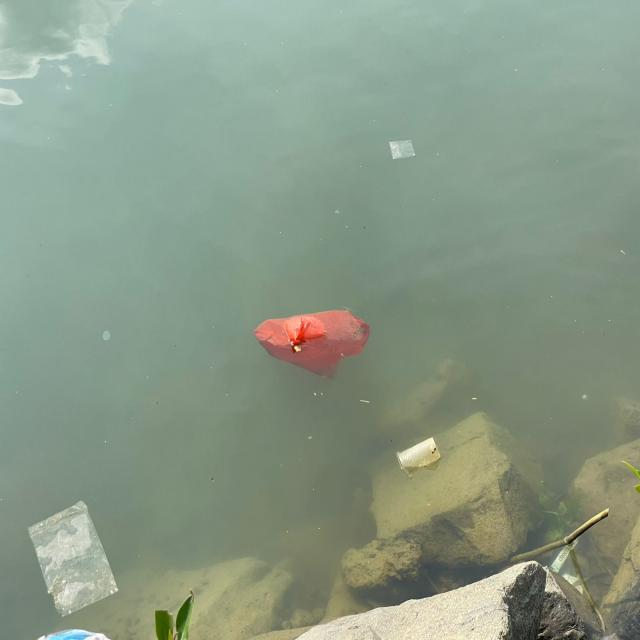Bungkus Minuman: (394, 431, 445, 482)
Kantong Plastik: (25, 495, 123, 617), (247, 299, 375, 386)
